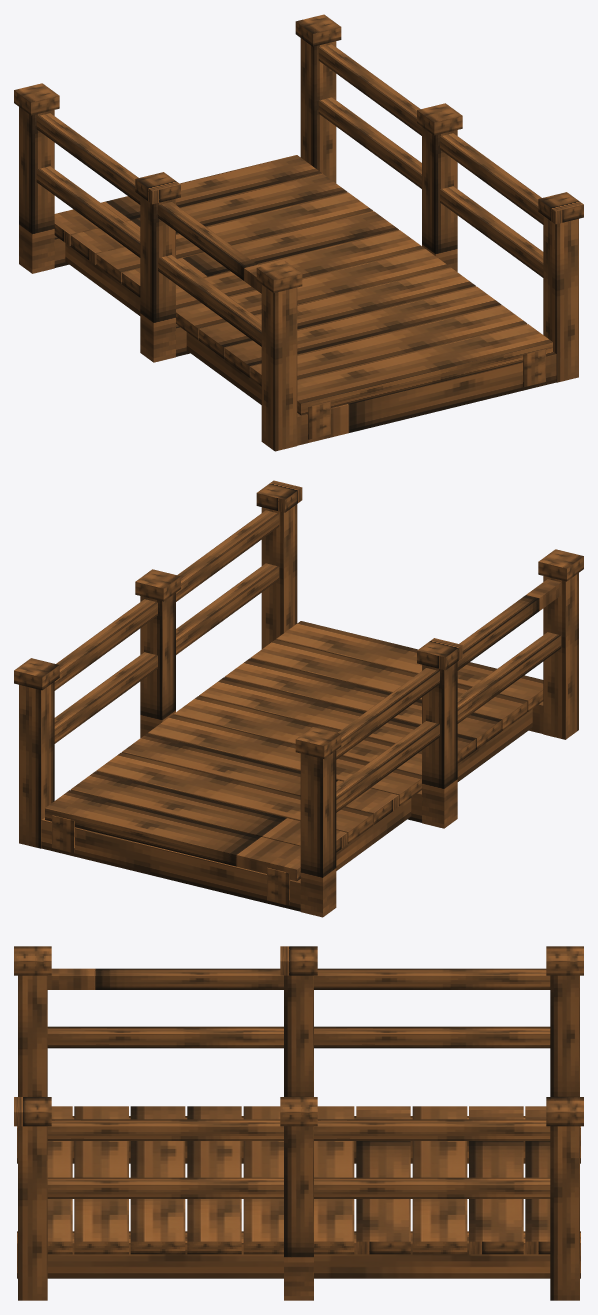
File: SM_HP_Bridge_LOD2.fbx
The picture shows the model from 3 angles, top to bottom: view 1: azimuth 30°, elevation 25°; view 2: azimuth 150°, elevation 25°; view 3: azimuth 270°, elevation 25°; orthographic projection. The views are drawn at different scales.
Visible parts, largest first — view 1: SM_HP_Bridge_LOD2; view 2: SM_HP_Bridge_LOD2; view 3: SM_HP_Bridge_LOD2.
Boxes of the visible parts, box(x1,y1,x2,y2) form: SM_HP_Bridge_LOD2: box(14, 14, 583, 451); SM_HP_Bridge_LOD2: box(14, 480, 583, 917); SM_HP_Bridge_LOD2: box(14, 946, 583, 1300).
Bounding box in the file's own units: 2.51 × 3.64 × 1.34.
1 material, 1 textured.
